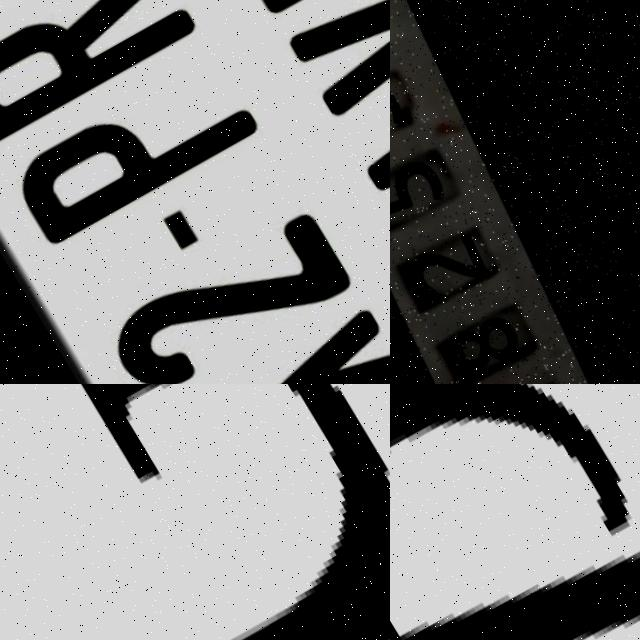2: (86, 210, 358, 384), (390, 209, 512, 335)
3: (390, 58, 431, 181)
5: (390, 133, 469, 257)
8: (415, 292, 542, 384)
A: (334, 13, 390, 221)
G: (0, 384, 390, 640)
P: (390, 384, 640, 640), (0, 51, 262, 251)
R: (0, 0, 203, 150)
V: (277, 0, 390, 121)
X: (144, 298, 390, 384)
